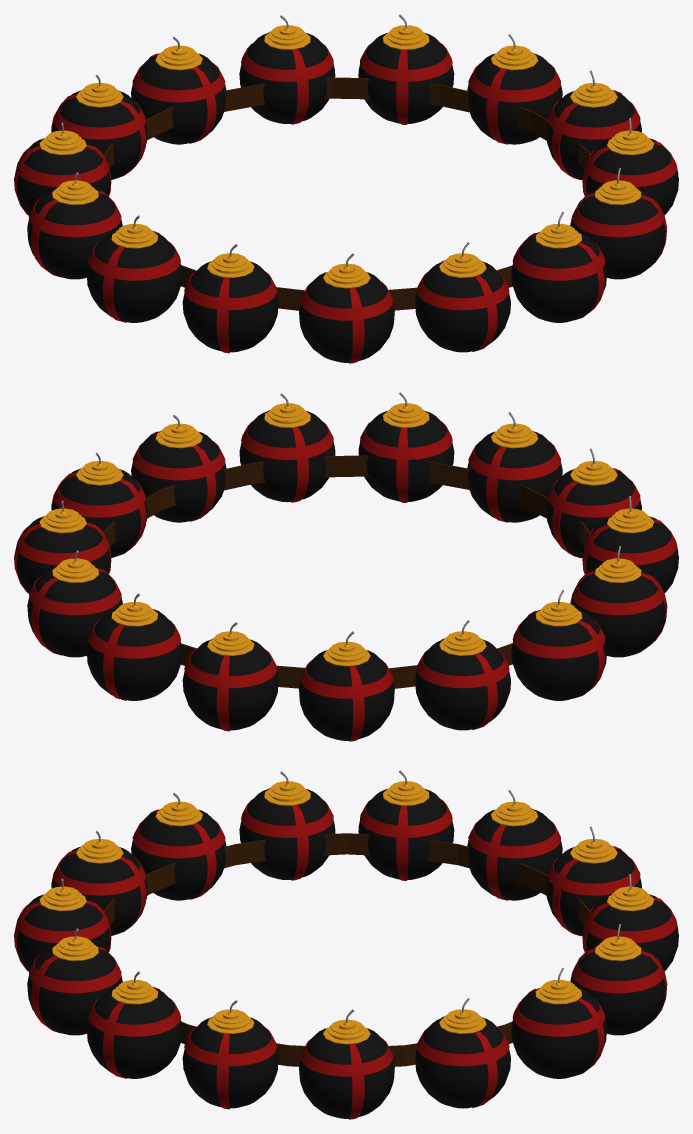
Rendered from Smoke Bomb.FBX.
3 renders of one model, top to bottom at view 1: azimuth 30°, elevation 25°; view 2: azimuth 150°, elevation 25°; view 3: azimuth 270°, elevation 25°, orthographic.
Parts seen in each view (by area): view 1: Donut002, Sphere057, Sphere056, Sphere053, Sphere055, Sphere054, Sphere058, Sphere048, Sphere047, Sphere049, Sphere052, Sphere046 (+37 smaller); view 2: Donut002, Sphere052, Sphere051, Sphere048, Sphere050, Sphere049, Sphere053, Sphere058, Sphere057, Sphere059, Sphere056, Sphere047 (+36 smaller); view 3: Donut002, Sphere047, Sphere046, Sphere058, Sphere059, Sphere048, Sphere053, Sphere052, Sphere054, Sphere057, Sphere051, Sphere055 (+36 smaller).
Boxes of the visible parts, x1,y1,x2,y2 form: Donut002: (93, 77, 599, 310); Sphere057: (511, 232, 606, 322); Sphere056: (415, 261, 510, 352); Sphere053: (86, 231, 182, 322); Sphere055: (299, 272, 394, 362); Sphere054: (182, 261, 278, 352); Sphere058: (571, 188, 665, 279); Sphere048: (239, 33, 335, 123); Sphere047: (358, 33, 454, 123); Sphere049: (131, 53, 226, 144); Sphere052: (27, 188, 122, 279); Sphere046: (467, 53, 562, 144); Donut002: (93, 455, 599, 688); Sphere052: (511, 610, 606, 700); Sphere051: (415, 639, 510, 730); Sphere048: (87, 610, 182, 700); Sphere050: (299, 650, 394, 740); Sphere049: (182, 639, 278, 730); Sphere053: (571, 566, 665, 657); Sphere058: (239, 411, 335, 502); Sphere057: (358, 411, 454, 501); Sphere059: (131, 431, 226, 522); Sphere056: (467, 431, 562, 522); Sphere047: (27, 566, 122, 657); Donut002: (93, 833, 599, 1066); Sphere047: (511, 988, 606, 1078); Sphere046: (415, 1017, 510, 1108); Sphere058: (87, 987, 182, 1078); Sphere059: (182, 1017, 278, 1108); Sphere048: (571, 944, 665, 1035); Sphere053: (239, 789, 335, 879); Sphere052: (358, 789, 454, 879); Sphere054: (131, 809, 226, 900); Sphere057: (27, 944, 122, 1035); Sphere051: (467, 809, 562, 900); Sphere055: (51, 846, 147, 935).
Size of the model in its own units: 91.77 by 16.04 by 92.15.
